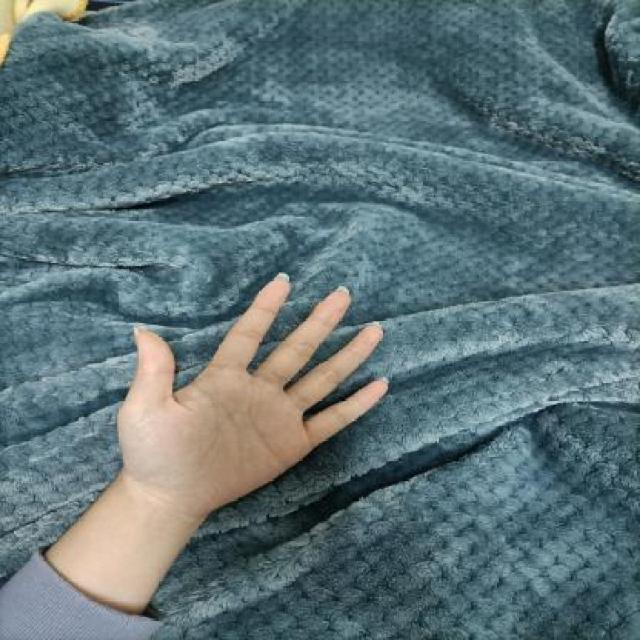bare_hand: (98, 260, 400, 522)
